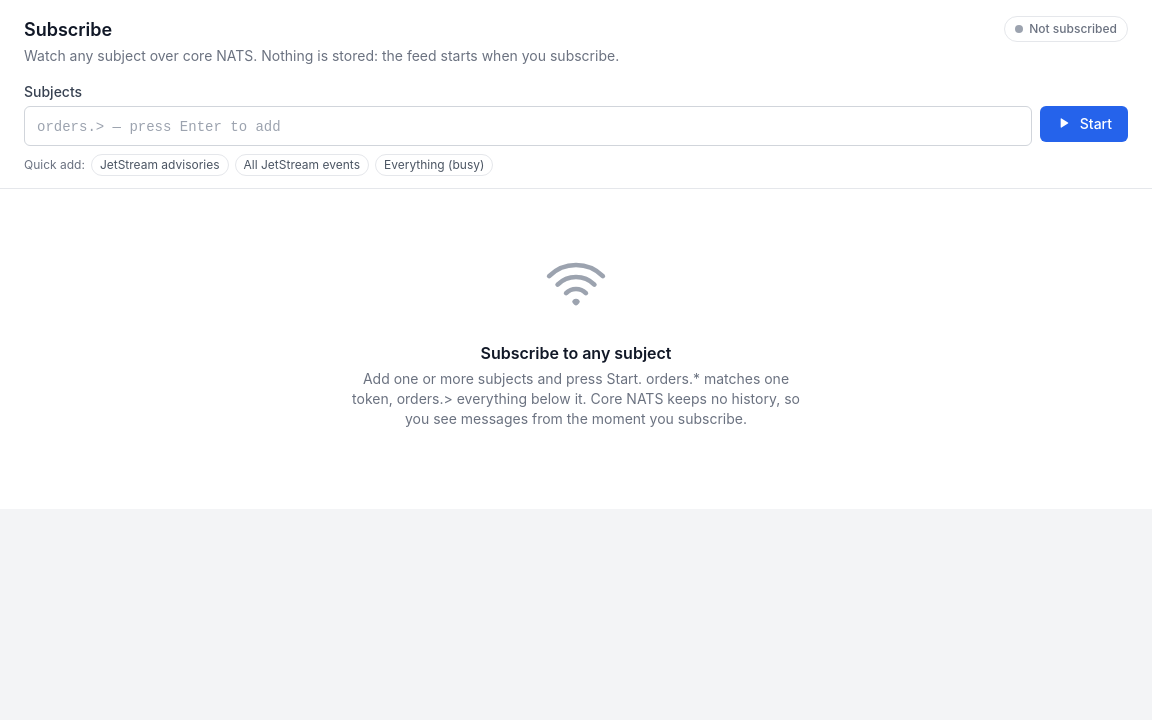
Test: SubscribePage › starts the subscription with the typed subject and waits for messages
Type "orders.>" into the dropdown labelled "Subjects" at (528, 127), box left=33, top=115, right=1023, bottom=139
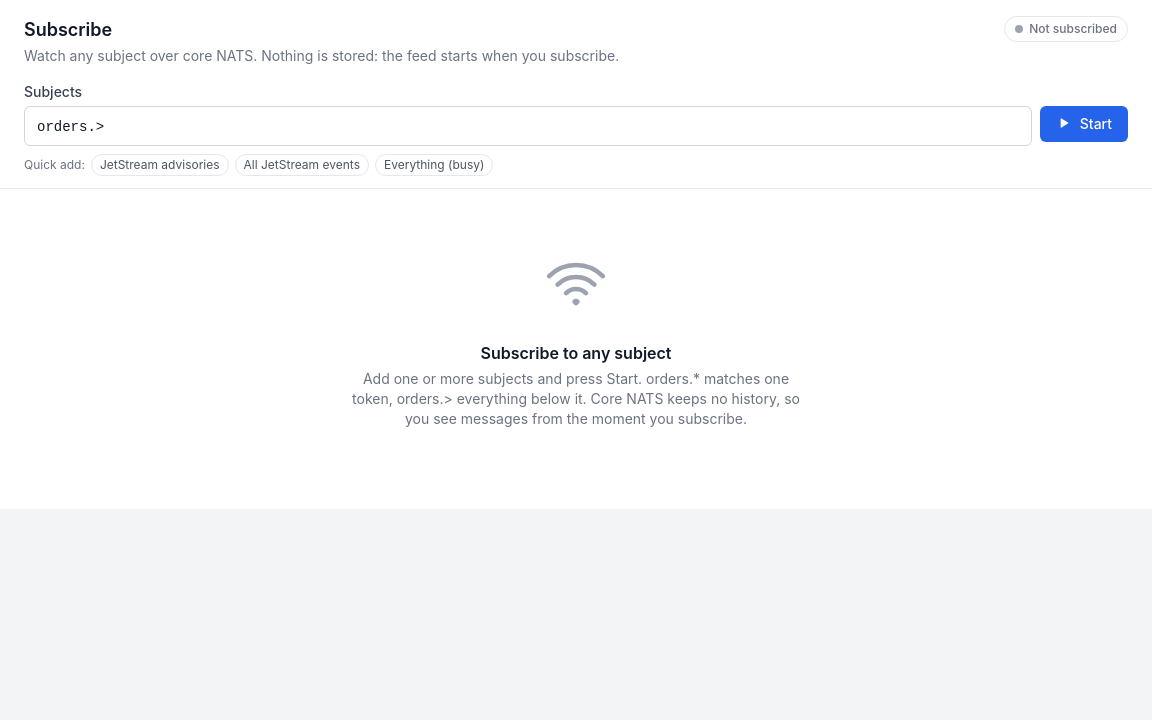
Click the button "Start" at (1084, 124), box left=1040, top=106, right=1128, bottom=142
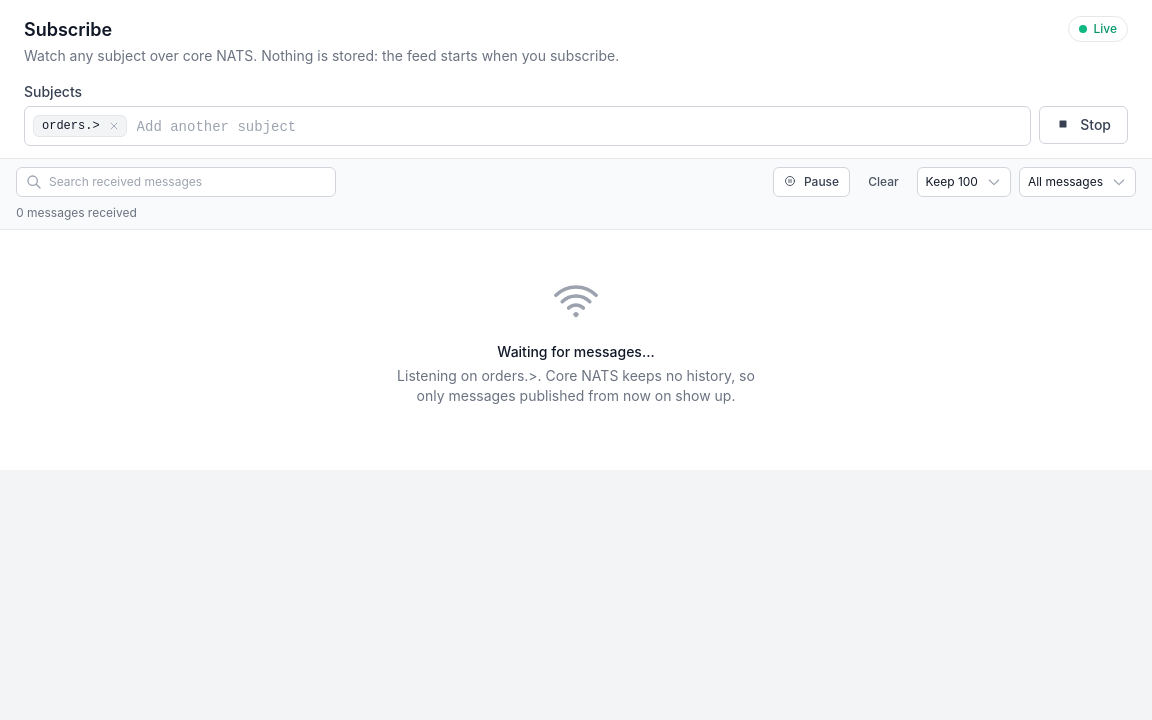
Expected: the message with test id "subscribe-status" reads "Live", left=1094, top=21, right=1117, bottom=36
Expected: the heading "Waiting for messages…" is shown, left=497, top=342, right=655, bottom=362
Expected: the button "Stop" is shown, left=1039, top=106, right=1128, bottom=144
